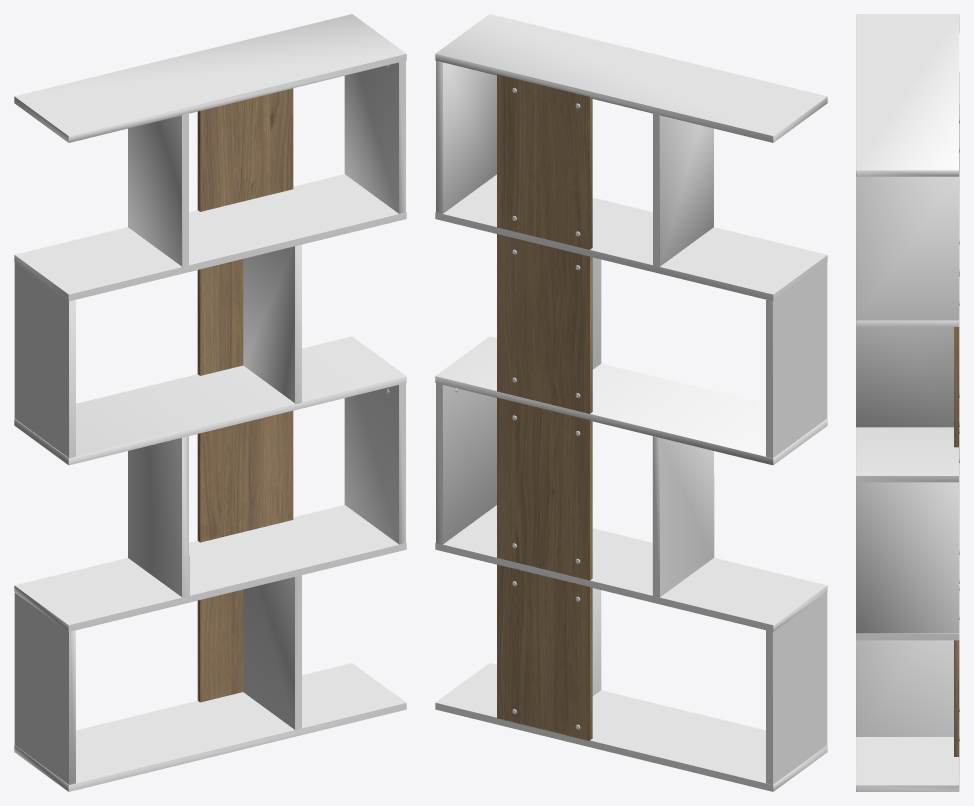
3 renders of one model, left to right at view 1: azimuth 30°, elevation 25°; view 2: azimuth 150°, elevation 25°; view 3: azimuth 270°, elevation 25°, orthographic. The views are drawn at different scales.
Visible parts, largest first — view 1: RootNode; view 2: RootNode; view 3: RootNode.
Part boxes in pixels (box(x1,y1,x2,y2)): RootNode: box(14, 14, 406, 791); RootNode: box(435, 14, 827, 791); RootNode: box(856, 14, 959, 791).
Bounding box in the file's own units: 0.8898 × 1.65 × 0.25.
Materials: 1 (1 with a texture image).
